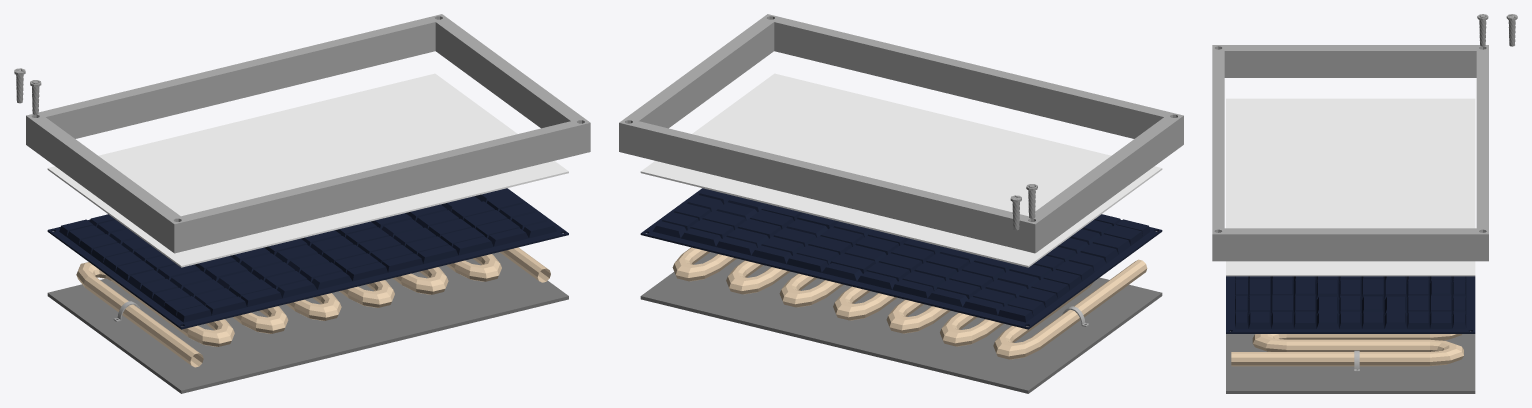
Rendered from Placa_piezas.fbx.
3 renders of one model, left to right at view 1: azimuth 30°, elevation 25°; view 2: azimuth 150°, elevation 25°; view 3: azimuth 270°, elevation 25°, orthographic. The views are drawn at different scales.
Visible parts, largest first — view 1: polySurface3, pPlane3, pPlane2, pPlane1, Tuberia; view 2: polySurface3, pPlane3, pPlane2, pPlane1, Tuberia; view 3: pPlane3, polySurface3, pPlane2, pPlane1, Tuberia.
Boxes of the visible parts, <box> form: polySurface3: <box>26,14,590,253</box>; pPlane3: <box>47,73,568,267</box>; pPlane2: <box>47,188,568,329</box>; pPlane1: <box>47,252,568,393</box>; Tuberia: <box>76,247,550,367</box>; polySurface3: <box>619,14,1183,253</box>; pPlane3: <box>640,73,1162,267</box>; pPlane2: <box>640,188,1162,329</box>; pPlane1: <box>640,252,1162,393</box>; Tuberia: <box>672,247,1147,359</box>; pPlane3: <box>1226,98,1475,276</box>; polySurface3: <box>1212,45,1488,261</box>; pPlane2: <box>1226,276,1475,333</box>; pPlane1: <box>1226,331,1475,393</box>; Tuberia: <box>1231,334,1463,366</box>.
Size of the model in its own units: 3.21 by 1.57 by 2.19.
